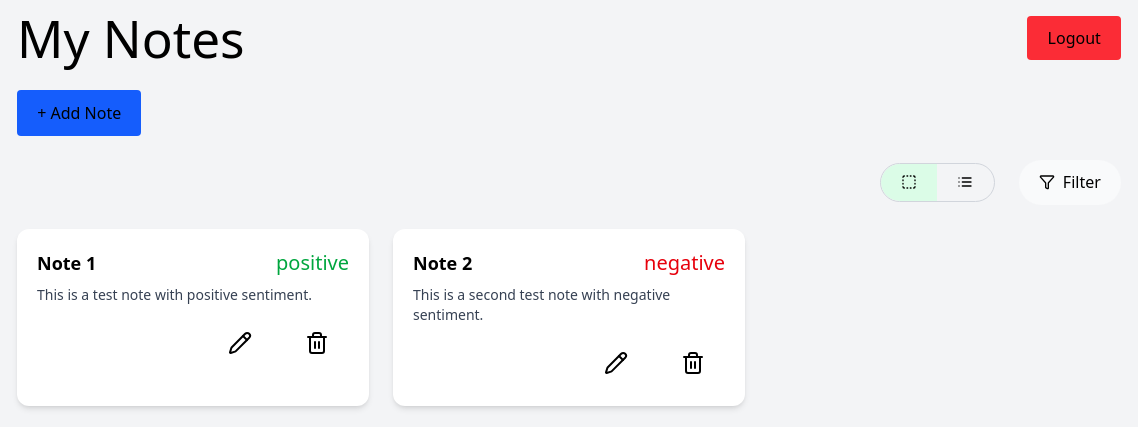
Test: Notes Page › filters notes by sentiment
The image size is (1138, 427).
expect the heading "Note 1" is shown: met, box [37,249,96,277]
Click the button "Filter": (1070, 182) [1019,160,1121,205]
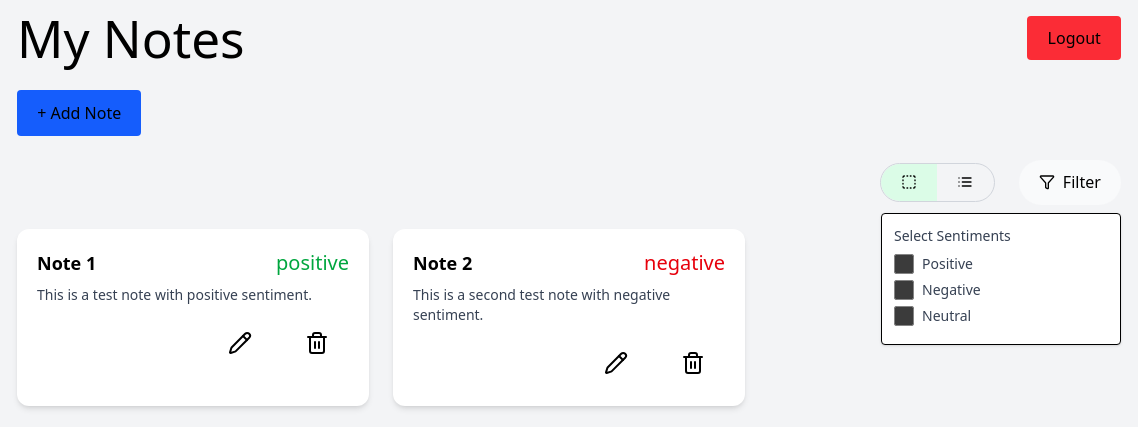
Click the checkbox labelled "Positive": (904, 264) [894,254,914,274]
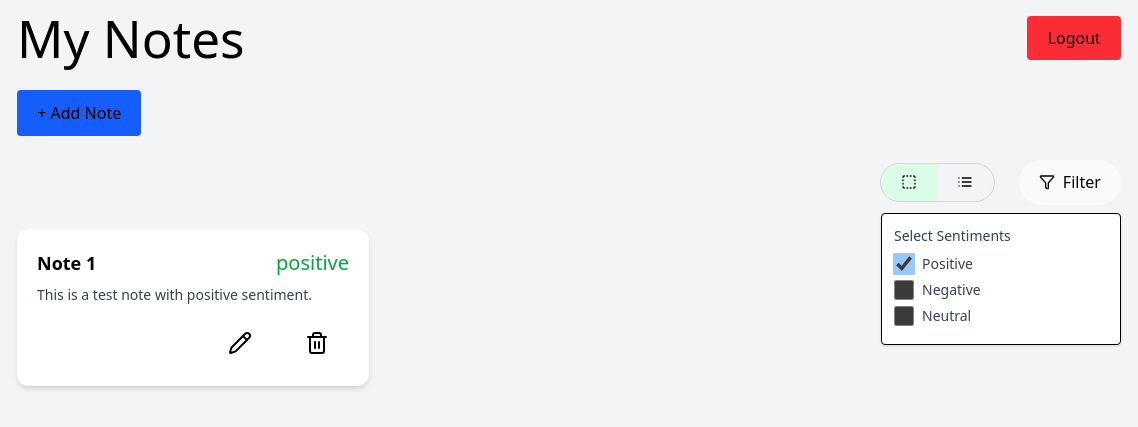
expect the heading "Note 1" is shown: met, box [37,249,96,277]
expect the heading "Note 2" is gone: met
